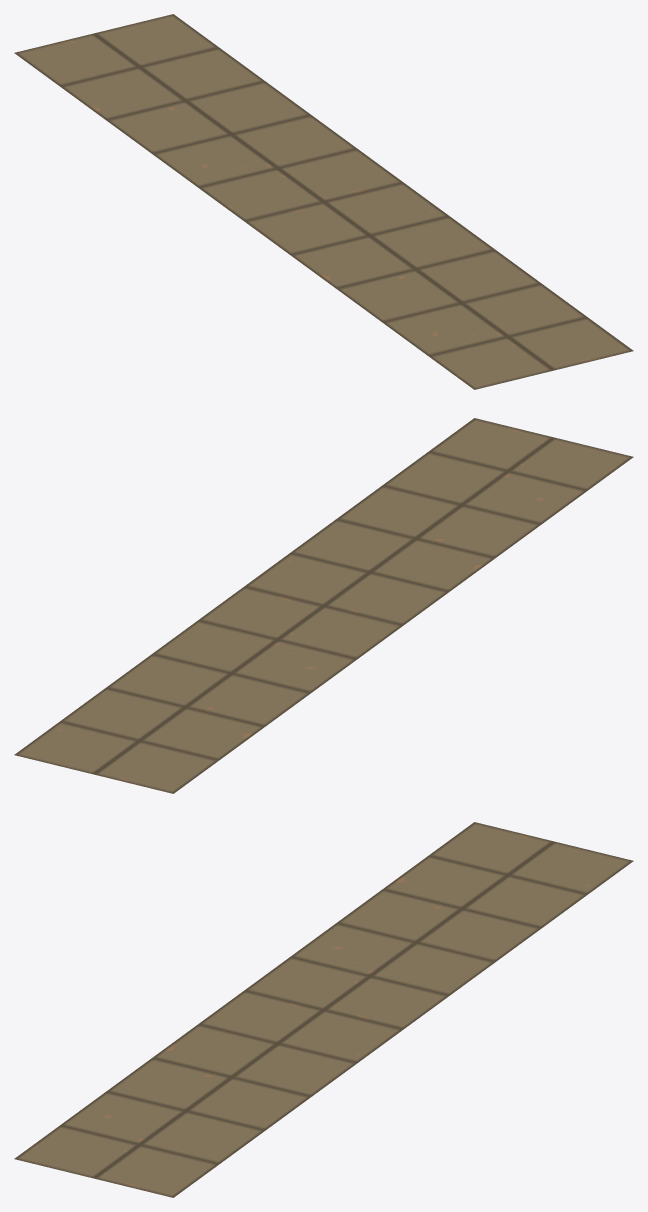
File: SW_ENV_Floor_A_1x5m.fbx
The picture shows the model from 3 angles, top to bottom: view 1: azimuth 30°, elevation 25°; view 2: azimuth 150°, elevation 25°; view 3: azimuth 330°, elevation 25°; orthographic projection.
Parts seen in each view (by area): view 1: SW_ENV_Floor_A_1x5m; view 2: SW_ENV_Floor_A_1x5m; view 3: SW_ENV_Floor_A_1x5m.
Part boxes in pixels (bbox=[...]): SW_ENV_Floor_A_1x5m: bbox=[14, 14, 633, 389]; SW_ENV_Floor_A_1x5m: bbox=[14, 418, 633, 793]; SW_ENV_Floor_A_1x5m: bbox=[14, 822, 633, 1197].
Bounding box in the file's own units: 100 × 0.0001 × 500.
